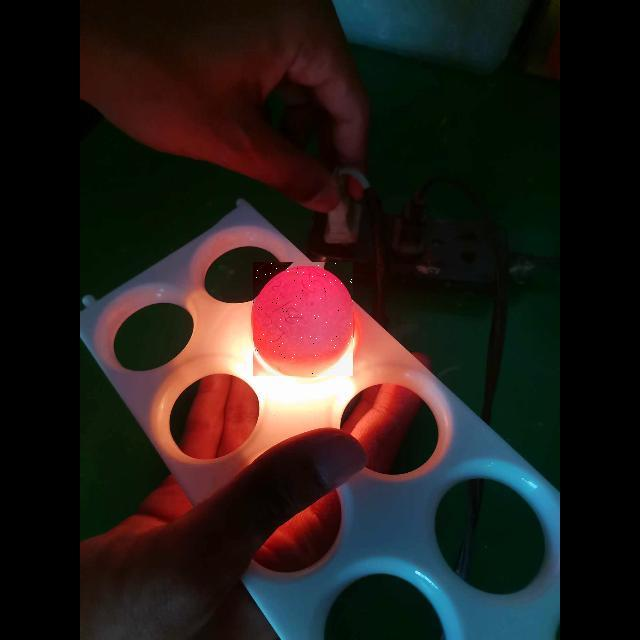Infertile: (253, 262, 353, 376)
